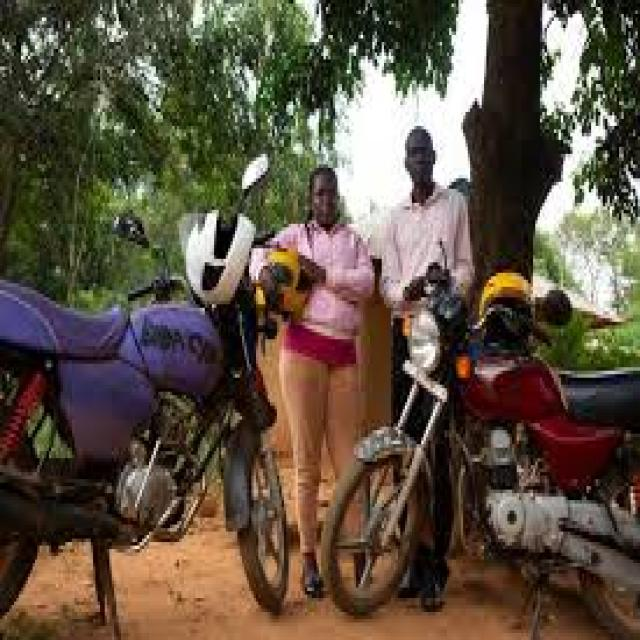bodaboda: (0, 87, 293, 640), (306, 253, 640, 640)
